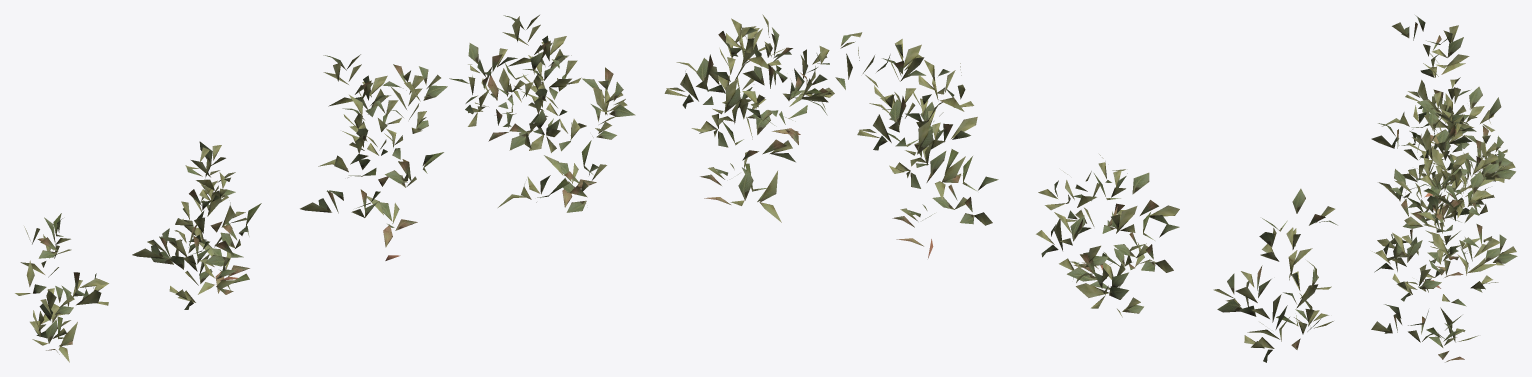
Rendered from shrub_04.glb.
3 renders of one model, left to right at view 1: azimuth 30°, elevation 25°; view 2: azimuth 150°, elevation 25°; view 3: azimuth 270°, elevation 25°, orthographic. The views are drawn at different scales.
Visible parts, largest first — view 1: shrub_04; view 2: shrub_04; view 3: shrub_04.
Boxes of the visible parts, bbox=[...] form: shrub_04: bbox=[15, 15, 635, 362]; shrub_04: bbox=[664, 14, 1337, 362]; shrub_04: bbox=[1371, 15, 1517, 362].
Size of the model in its own units: 0.5723 by 0.1918 by 0.136.
Materials: 1 (1 with a texture image).
